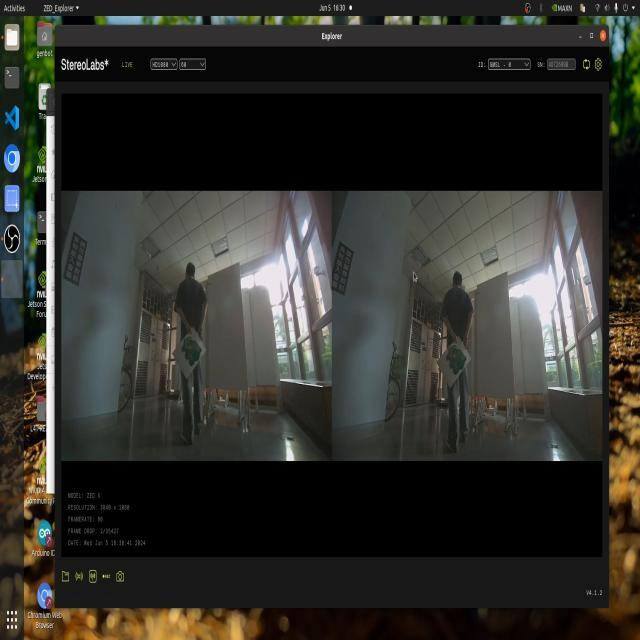green: (177, 334, 202, 367), (444, 342, 466, 375)
